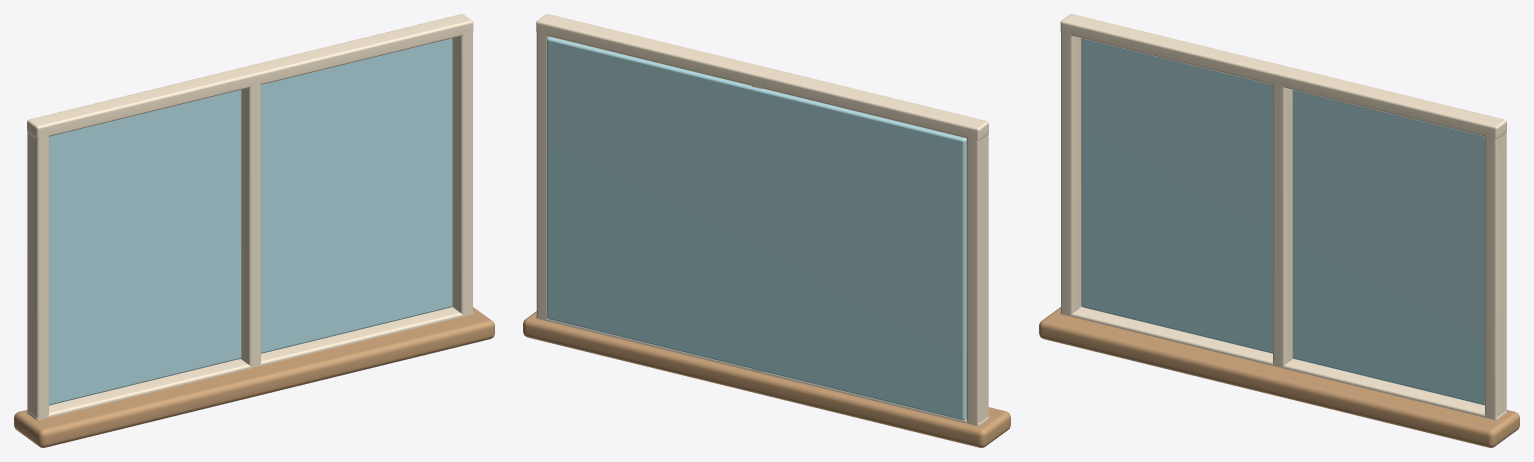
The model's file is window.glb.
3 renders of one model, left to right at view 1: azimuth 30°, elevation 25°; view 2: azimuth 150°, elevation 25°; view 3: azimuth 330°, elevation 25°, orthographic.
Parts seen in each view (by area): view 1: Window light, Oak sill, Horizontal frame.001, Vertical frame, Vertical frame.002, Vertical frame.001, Horizontal frame; view 2: Window light, Oak sill, Horizontal frame.001, Vertical frame, Vertical frame.002, Horizontal frame; view 3: Window light, Oak sill, Horizontal frame.001, Vertical frame.002, Vertical frame, Vertical frame.001, Horizontal frame.
Boxes of the visible parts, x1,y1,x2,y2 form: Window light: (49,38,452,405); Oak sill: (14,307,494,447); Horizontal frame.001: (27,14,473,138); Vertical frame: (27,131,48,419); Vertical frame.002: (452,27,472,316); Vertical frame.001: (241,79,260,367); Horizontal frame: (27,307,473,419); Window light: (547,37,966,420); Oak sill: (523,311,1010,447); Horizontal frame.001: (536,14,988,140); Vertical frame: (966,132,988,425); Vertical frame.002: (536,27,549,320); Horizontal frame: (536,316,988,425); Window light: (1081,38,1484,405); Oak sill: (1039,307,1519,447); Horizontal frame.001: (1060,14,1506,138); Vertical frame.002: (1485,131,1506,419); Vertical frame: (1061,27,1081,316); Vertical frame.001: (1273,79,1292,367); Horizontal frame: (1060,307,1506,419).
Bounding box in the file's own units: 3.1 × 2.02 × 0.34.
